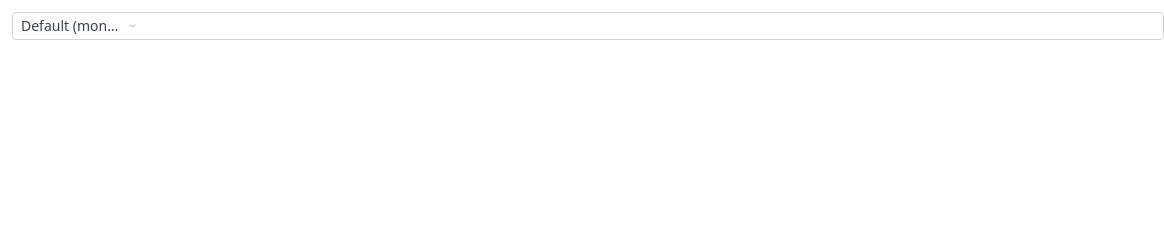
Test case: FontFamilyInput › shows a fallback note when system enumeration is unavailable
Step 1. Click the button with aria-label "Font Family" → (79, 26), box [13,13,145,39]
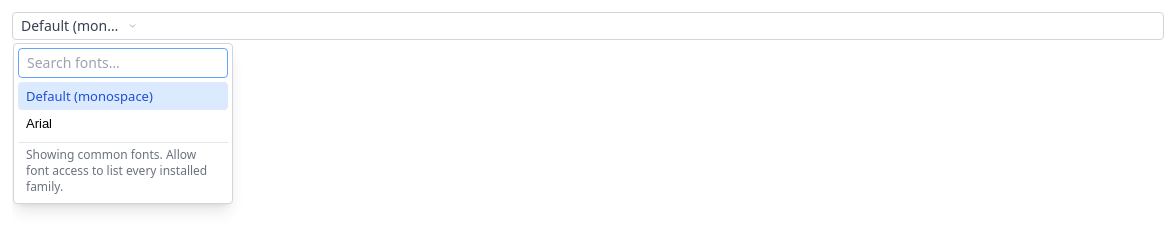
Expected: the text "Showing common fonts" is shown, [26,146,207,195]
